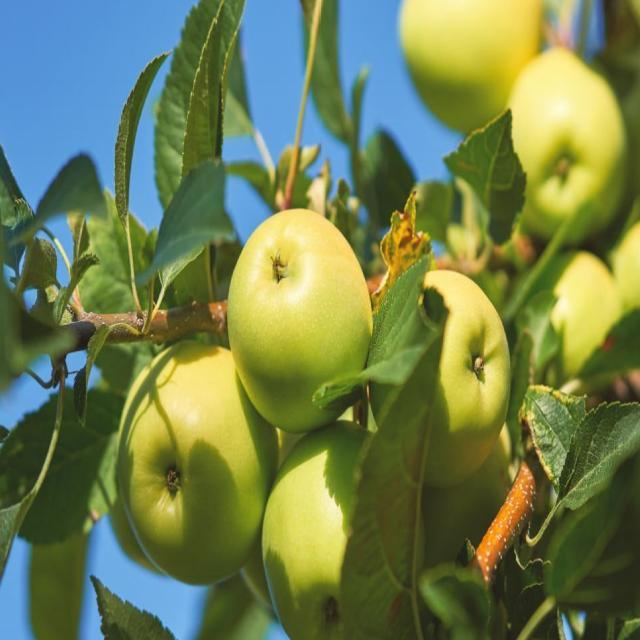Green Apple: (126, 335, 300, 578), (235, 211, 377, 412), (262, 429, 396, 640), (384, 262, 502, 462), (517, 55, 626, 234), (421, 420, 524, 570), (397, 1, 534, 113), (525, 254, 613, 395), (619, 198, 640, 347)
